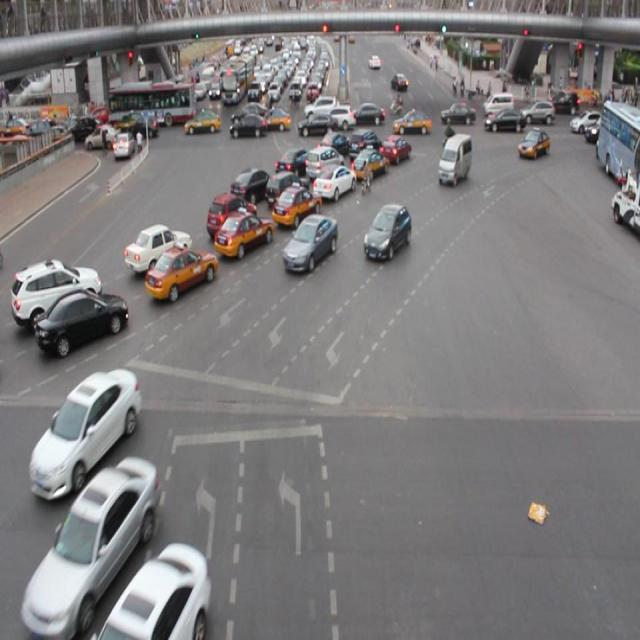car: (24, 458, 154, 630), (29, 371, 139, 492), (102, 543, 209, 640), (37, 287, 128, 352), (13, 259, 100, 323), (146, 245, 216, 299), (125, 224, 192, 273), (283, 215, 337, 272), (213, 208, 272, 257), (362, 204, 412, 258), (206, 192, 256, 238), (271, 183, 320, 227), (312, 163, 355, 204), (264, 170, 308, 210), (230, 167, 271, 204), (348, 146, 387, 181), (346, 129, 382, 165), (274, 147, 312, 181), (516, 127, 550, 160), (317, 129, 349, 160), (376, 135, 408, 164)
truck: (437, 132, 472, 186), (306, 146, 343, 184)
